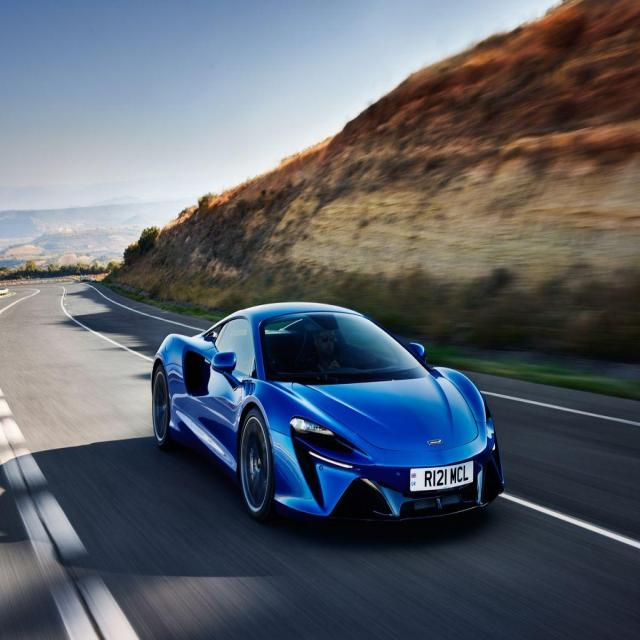cars12: (150, 298, 509, 537)
